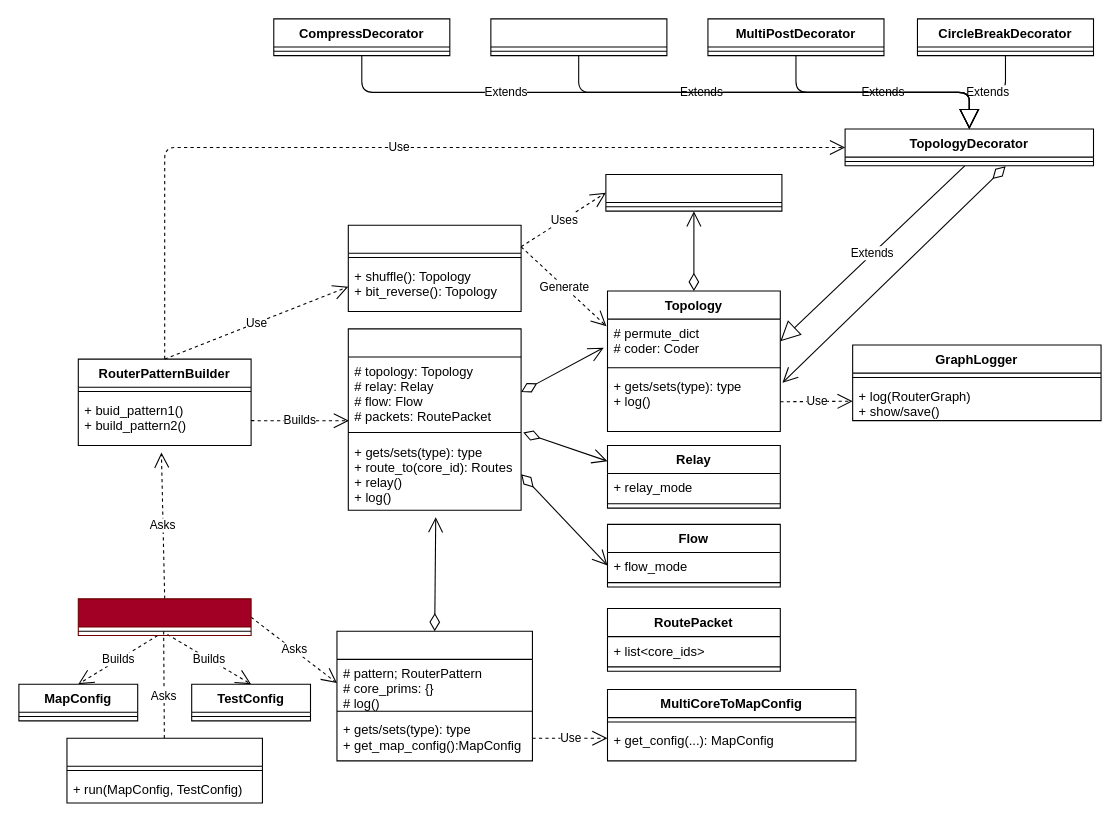
This 1120x825 diagram has some shape labels left out. The box of each missing label's shape, as (x1, y1, x2, y2) in pixels:
Coder: (605, 173, 782, 211)
DecompressDecorator: (490, 18, 667, 56)
MultiCore: (336, 630, 532, 761)
RouterPattern: (347, 328, 521, 510)
TestDemo: (77, 598, 251, 636)
TestEngine: (66, 737, 262, 803)
TopologyLib: (347, 224, 521, 312)
